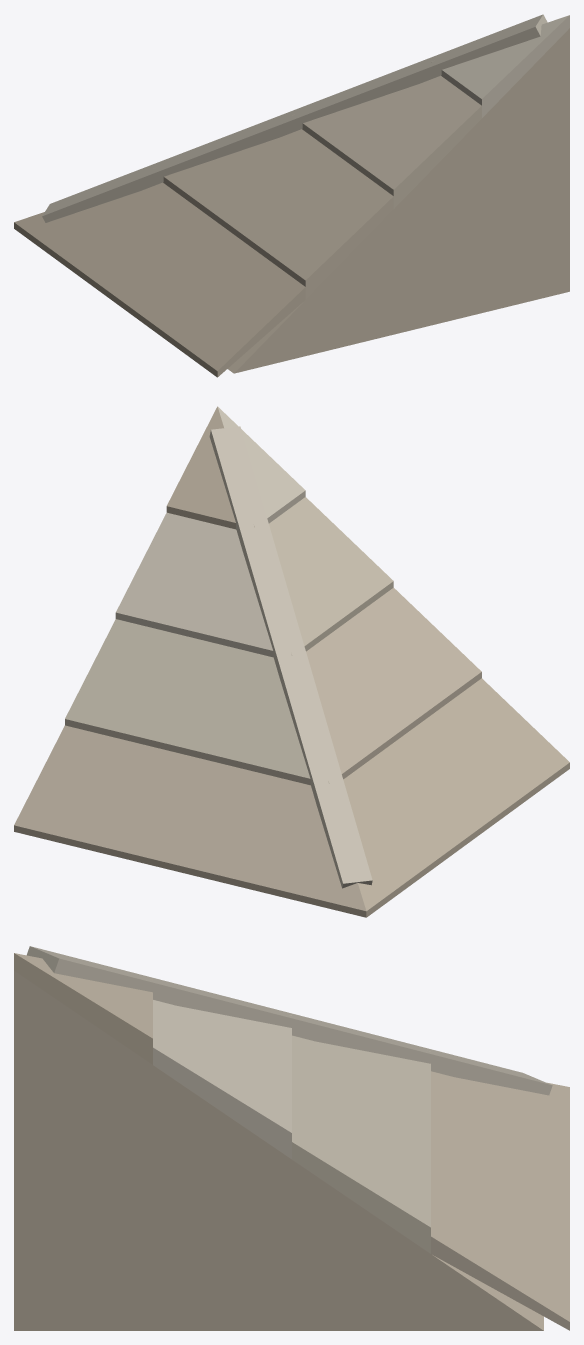
File: RoofCorner.glb
3 renders of one model, top to bottom at view 1: azimuth 30°, elevation 25°; view 2: azimuth 150°, elevation 25°; view 3: azimuth 270°, elevation 25°, orthographic. The views are drawn at different scales.
Parts seen in each view (by area): view 1: Wood; view 2: Wood; view 3: Wood.
Part boxes in pixels (x1,y1,x2,y2): Wood: (14,14,569,377); Wood: (14,406,569,917); Wood: (14,946,569,1330).
Bounding box in the file's own units: 4 × 3 × 4.
